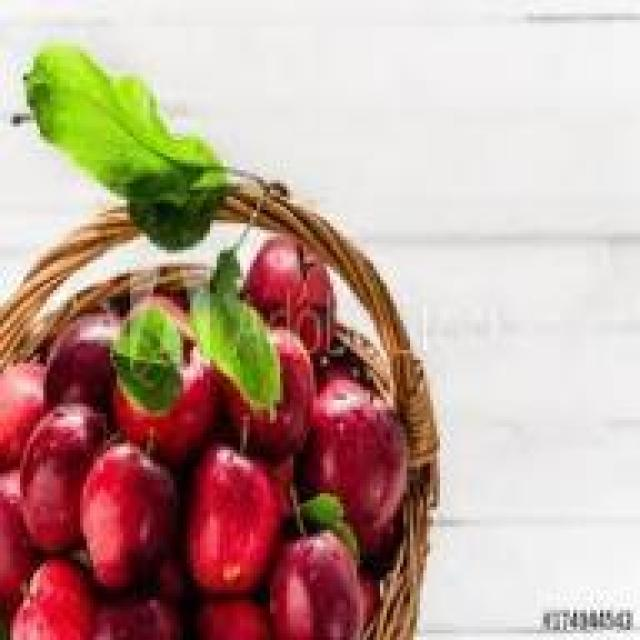apple: (293, 376, 407, 526), (117, 310, 220, 457), (236, 223, 346, 347), (253, 530, 380, 633), (20, 410, 120, 537), (183, 456, 280, 586), (227, 330, 320, 460), (87, 453, 173, 587), (40, 306, 130, 406), (13, 563, 94, 637)
